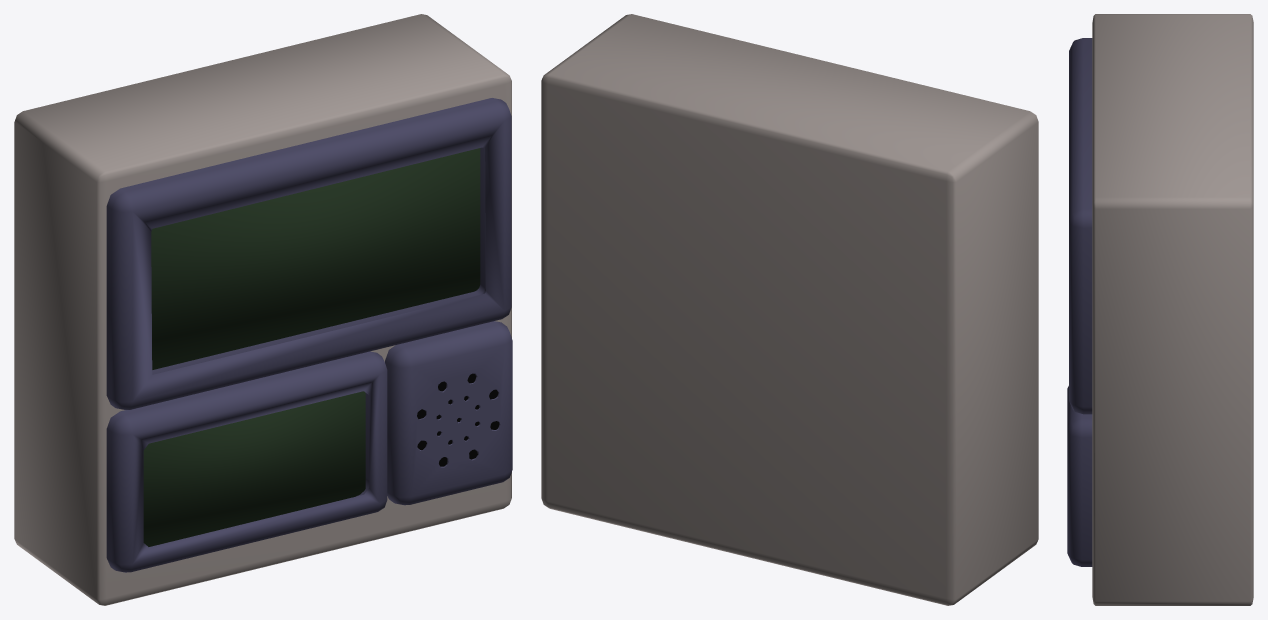
Rendered from clock.glb.
3 views of the same model, side by side, from view 1: azimuth 30°, elevation 25°; view 2: azimuth 150°, elevation 25°; view 3: azimuth 270°, elevation 25° (orthographic). The views are drawn at different scales.
Parts seen in each view (by area): view 1: ClockModule, Clock.Backlight, Clock.Frame, XFrame.Backlight, XFrame.Frame, Speaker, HoleBG.L; view 2: ClockModule; view 3: ClockModule, Clock.Frame, Speaker.
Part boxes in pixels (box(x1,y1,x2,y2)): ClockModule: box(14, 14, 511, 605); Clock.Backlight: box(151, 148, 480, 369); Clock.Frame: box(106, 98, 511, 409); XFrame.Backlight: box(143, 391, 365, 546); XFrame.Frame: box(106, 351, 387, 572); Speaker: box(385, 321, 512, 505); HoleBG.L: box(417, 373, 499, 466); ClockModule: box(541, 14, 1038, 605); ClockModule: box(1092, 14, 1253, 605); Clock.Frame: box(1069, 38, 1092, 414); Speaker: box(1067, 386, 1092, 566).
Bounding box in the file's own units: 0.1761 × 0.1761 × 0.0728.
